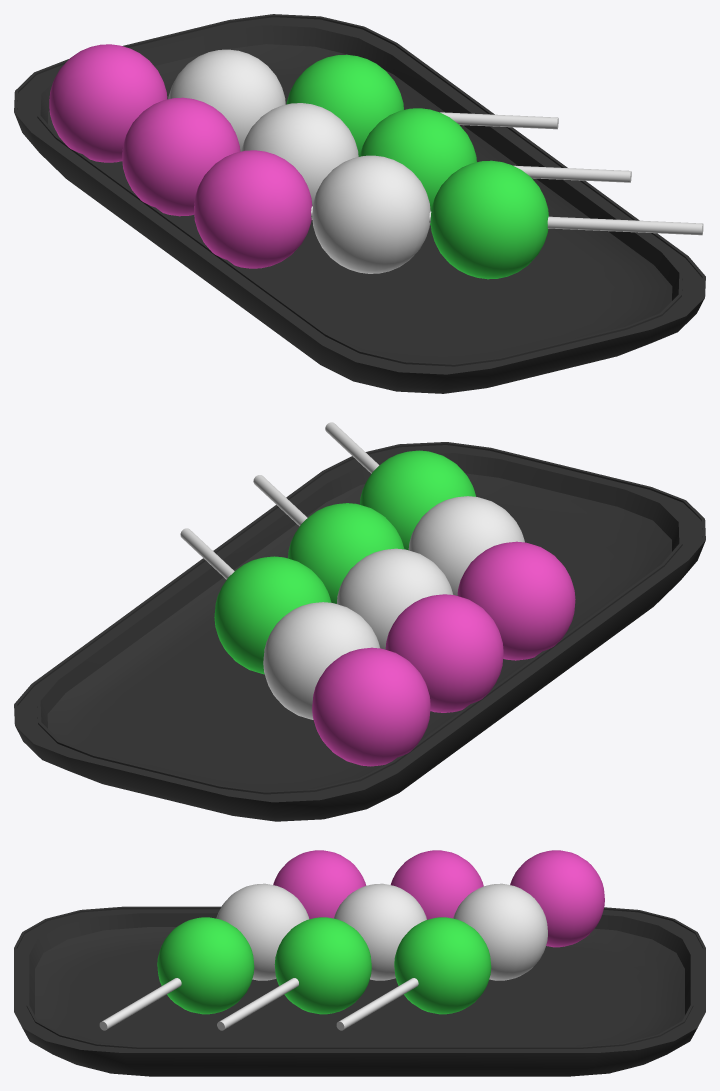
Rendered from TS_Dango.fbx.
3 views of the same model, one above another, from view 1: azimuth 30°, elevation 25°; view 2: azimuth 150°, elevation 25°; view 3: azimuth 270°, elevation 25° (orthographic). The views are drawn at different scales.
Parts seen in each view (by area): view 1: 立方体, Roundcube, Roundcube.002, Roundcube.001; view 2: 立方体, Roundcube.002, Roundcube.001, Roundcube; view 3: 立方体, Roundcube.002, Roundcube.001, Roundcube.
Boxes of the visible parts, x1,y1,x2,y2 form: 立方体: (14, 14, 705, 393); Roundcube: (194, 150, 703, 279); Roundcube.002: (49, 44, 558, 162); Roundcube.001: (122, 97, 631, 225); 立方体: (14, 442, 705, 821); Roundcube.002: (180, 528, 430, 766); Roundcube.001: (253, 475, 503, 712); Roundcube: (325, 422, 575, 660); 立方体: (14, 906, 705, 1076); Roundcube.002: (336, 850, 604, 1030); Roundcube.001: (217, 850, 483, 1030); Roundcube: (99, 850, 366, 1030).
Size of the model in its own units: 203 by 65.67 by 400.
